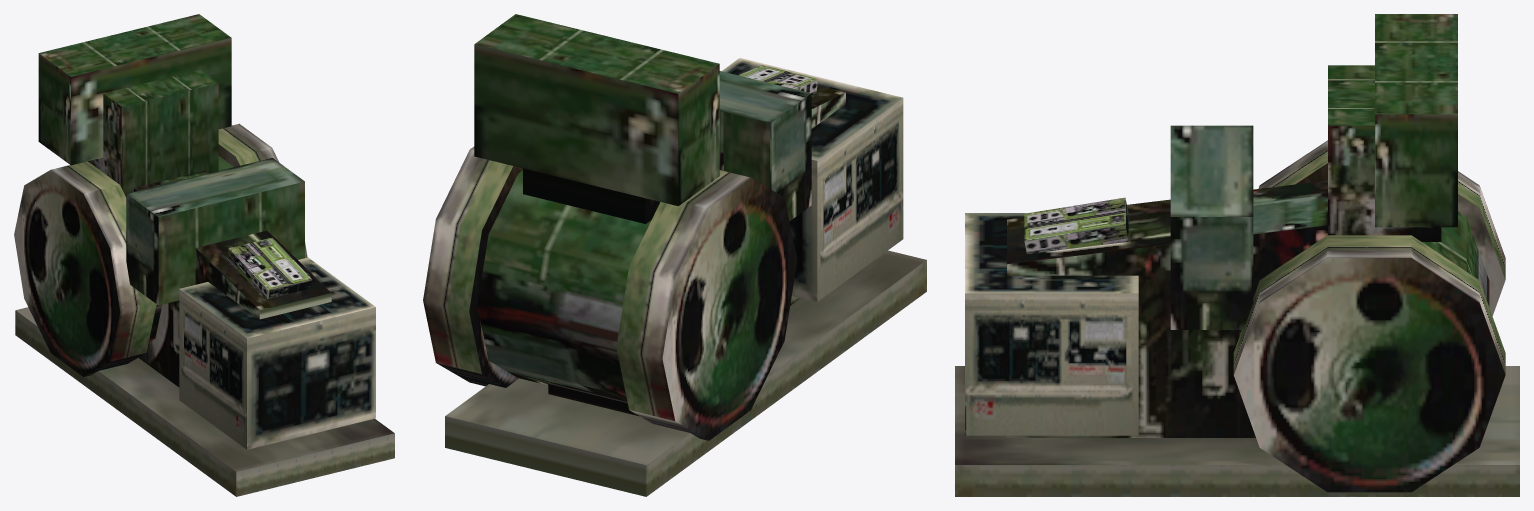
File: M12_Generator02.glb
The picture shows the model from 3 angles, left to right: view 1: azimuth 30°, elevation 25°; view 2: azimuth 150°, elevation 25°; view 3: azimuth 270°, elevation 25°; orthographic projection. The views are drawn at different scales.
Visible parts, largest first — view 1: M12_GENERATOR02; view 2: M12_GENERATOR02; view 3: M12_GENERATOR02.
Part boxes in pixels (x1,y1,x2,y2): M12_GENERATOR02: [14, 14, 394, 496]; M12_GENERATOR02: [423, 14, 926, 496]; M12_GENERATOR02: [955, 14, 1519, 496].
Bounding box in the file's own units: 0.892 × 1.36 × 1.81.
Materials: 1 (1 with a texture image).
